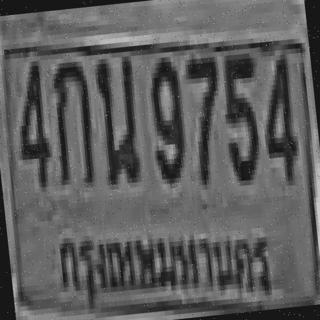A01: (47, 56, 94, 185)
A25: (92, 51, 142, 180)
N04: (9, 56, 51, 189), (256, 49, 297, 182)
N05: (216, 48, 265, 182)
N07: (184, 52, 227, 180)
N09: (144, 51, 188, 180)
P04: (48, 198, 278, 320)
